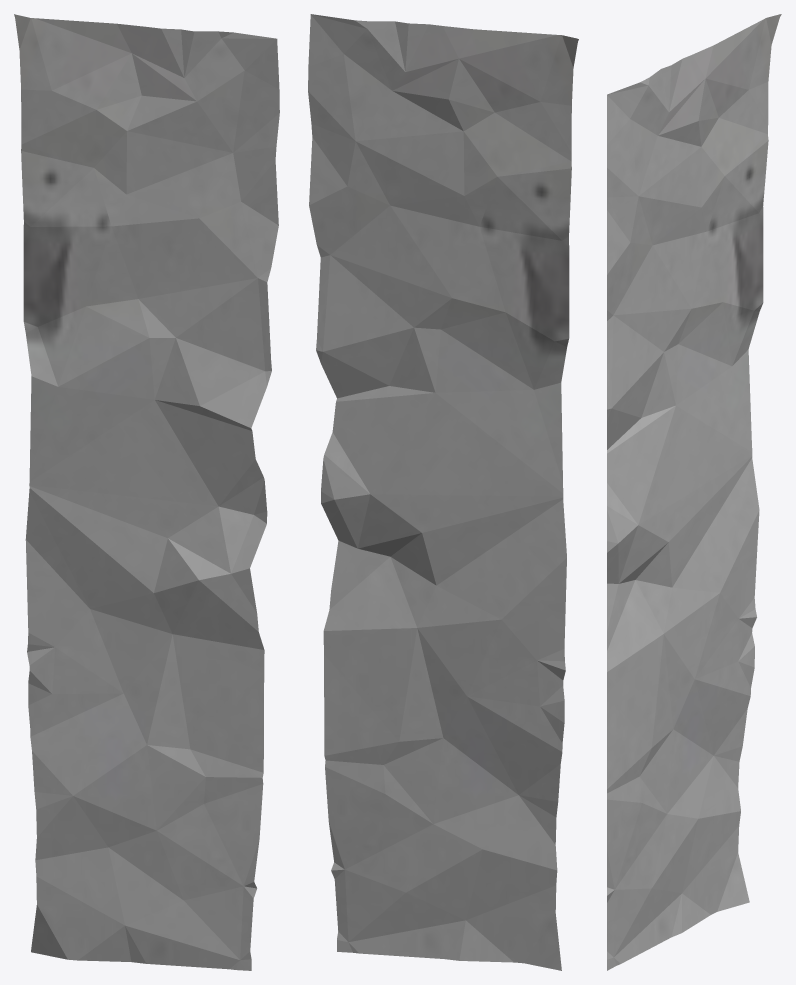
3 views of the same model, side by side, from view 1: azimuth 30°, elevation 25°; view 2: azimuth 210°, elevation 25°; view 3: azimuth 270°, elevation 25° (orthographic). The views are drawn at different scales.
Size of the model in its own units: 0.1653 by 0.8374 by 0.1493.
Materials: 1 (1 with a texture image).
